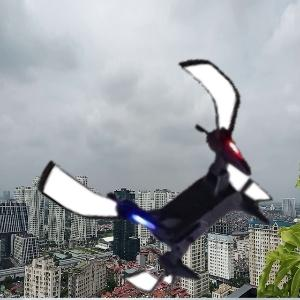drone: (54, 55, 295, 296)
